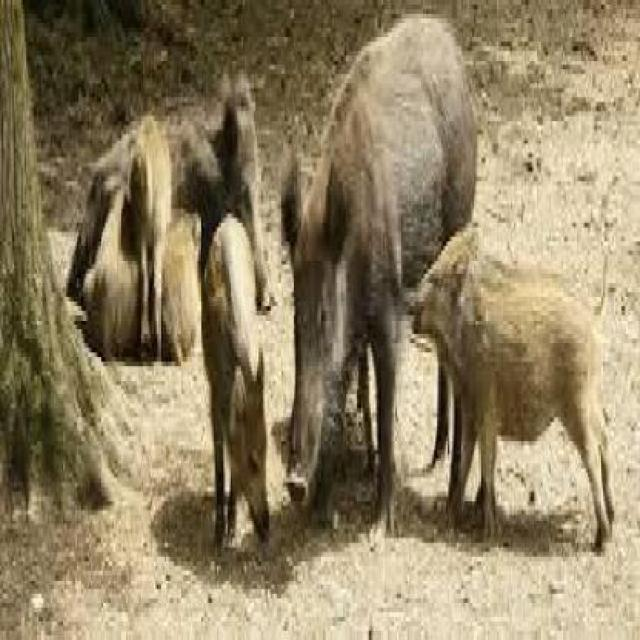wildboar: (278, 8, 482, 555), (409, 222, 622, 563), (65, 66, 281, 386), (199, 206, 273, 563), (126, 105, 176, 366), (78, 169, 144, 366), (162, 196, 210, 382)
